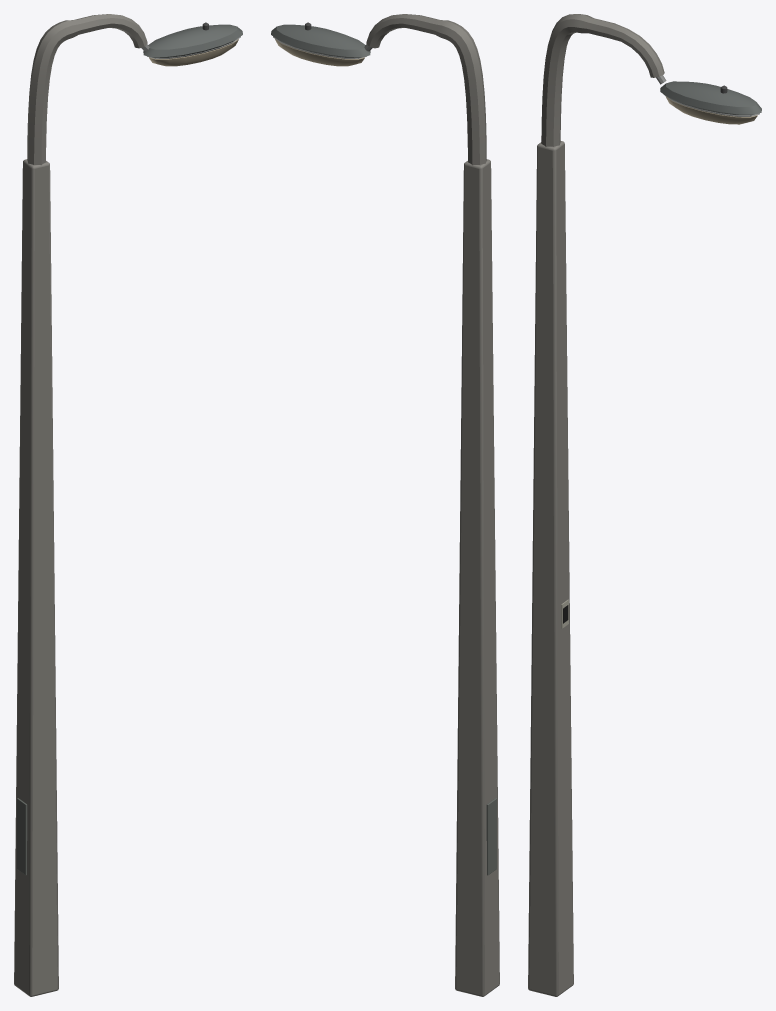
Rendered from SM_Prop_street_lamp_1.glb.
The picture shows the model from 3 angles, left to right: view 1: azimuth 30°, elevation 25°; view 2: azimuth 150°, elevation 25°; view 3: azimuth 330°, elevation 25°; orthographic projection. The views are drawn at different scales.
Parts seen in each view (by area): view 1: SM_Prop_street_lamp_1; view 2: SM_Prop_street_lamp_1; view 3: SM_Prop_street_lamp_1.
Boxes of the visible parts, x1,y1,x2,y2 form: SM_Prop_street_lamp_1: [14, 14, 242, 996]; SM_Prop_street_lamp_1: [271, 14, 499, 996]; SM_Prop_street_lamp_1: [528, 14, 761, 996].
Bounding box in the file's own units: 1.57 × 6.5 × 0.2565.
